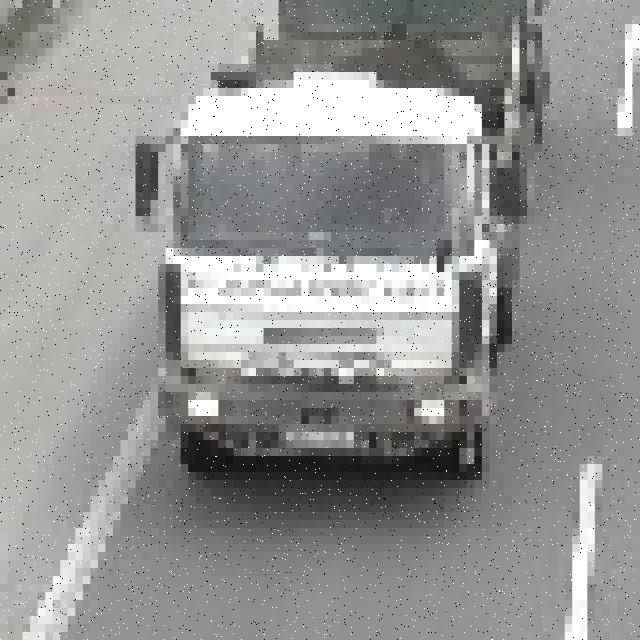truck: (136, 0, 564, 480)
